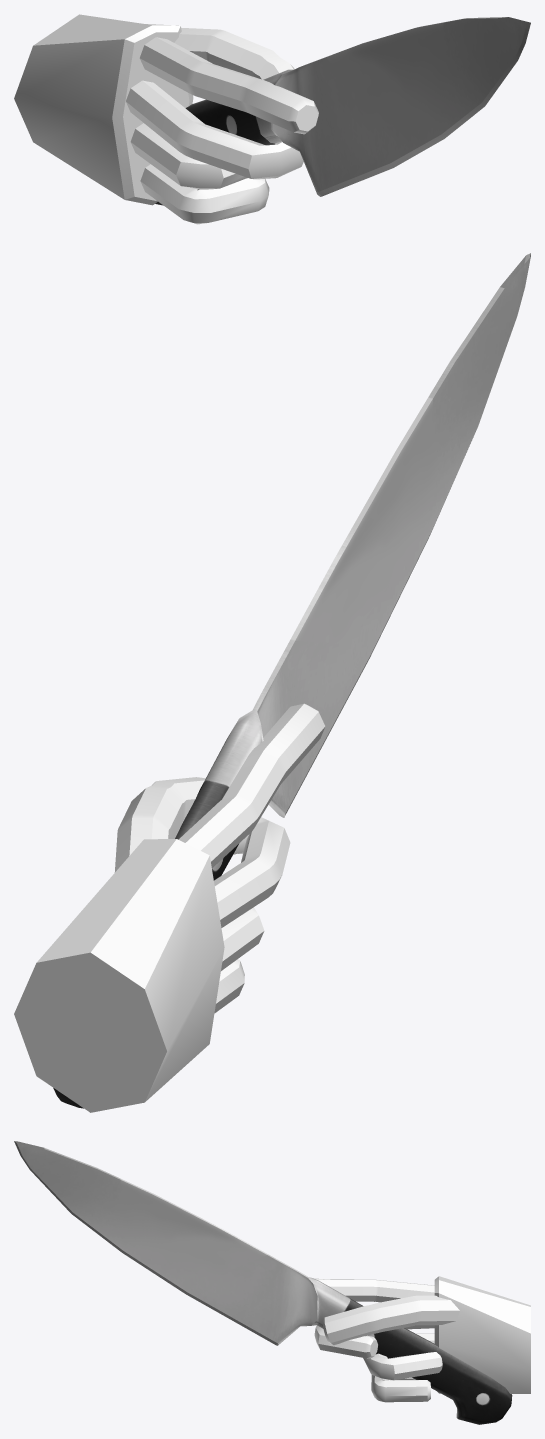
Rendered from ChefKnifeWithHand.fbx.
3 views of the same model, one above another, from view 1: azimuth 30°, elevation 25°; view 2: azimuth 150°, elevation 25°; view 3: azimuth 270°, elevation 25° (orthographic). The views are drawn at different scales.
Visible parts, largest first — view 1: Hand, Knife; view 2: Hand, Knife; view 3: Knife, Hand.
Boxes of the visible parts, x1,y1,x2,y2 form: Hand: (14,14,318,224); Knife: (155,17,530,205); Hand: (14,703,325,1112); Knife: (53,253,530,1108); Knife: (14,1141,512,1424); Hand: (314,1276,530,1402).
Size of the model in its own units: 42.06 by 115 by 191.
